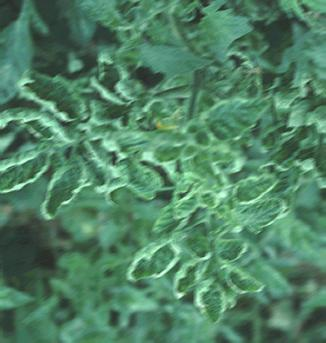Tomato leaf yellow virus: (0, 58, 94, 123), (197, 87, 279, 147), (0, 137, 62, 205), (211, 163, 283, 217), (32, 160, 77, 229), (236, 184, 296, 235), (0, 106, 85, 142), (193, 259, 228, 330), (126, 240, 185, 282), (214, 261, 281, 293)
